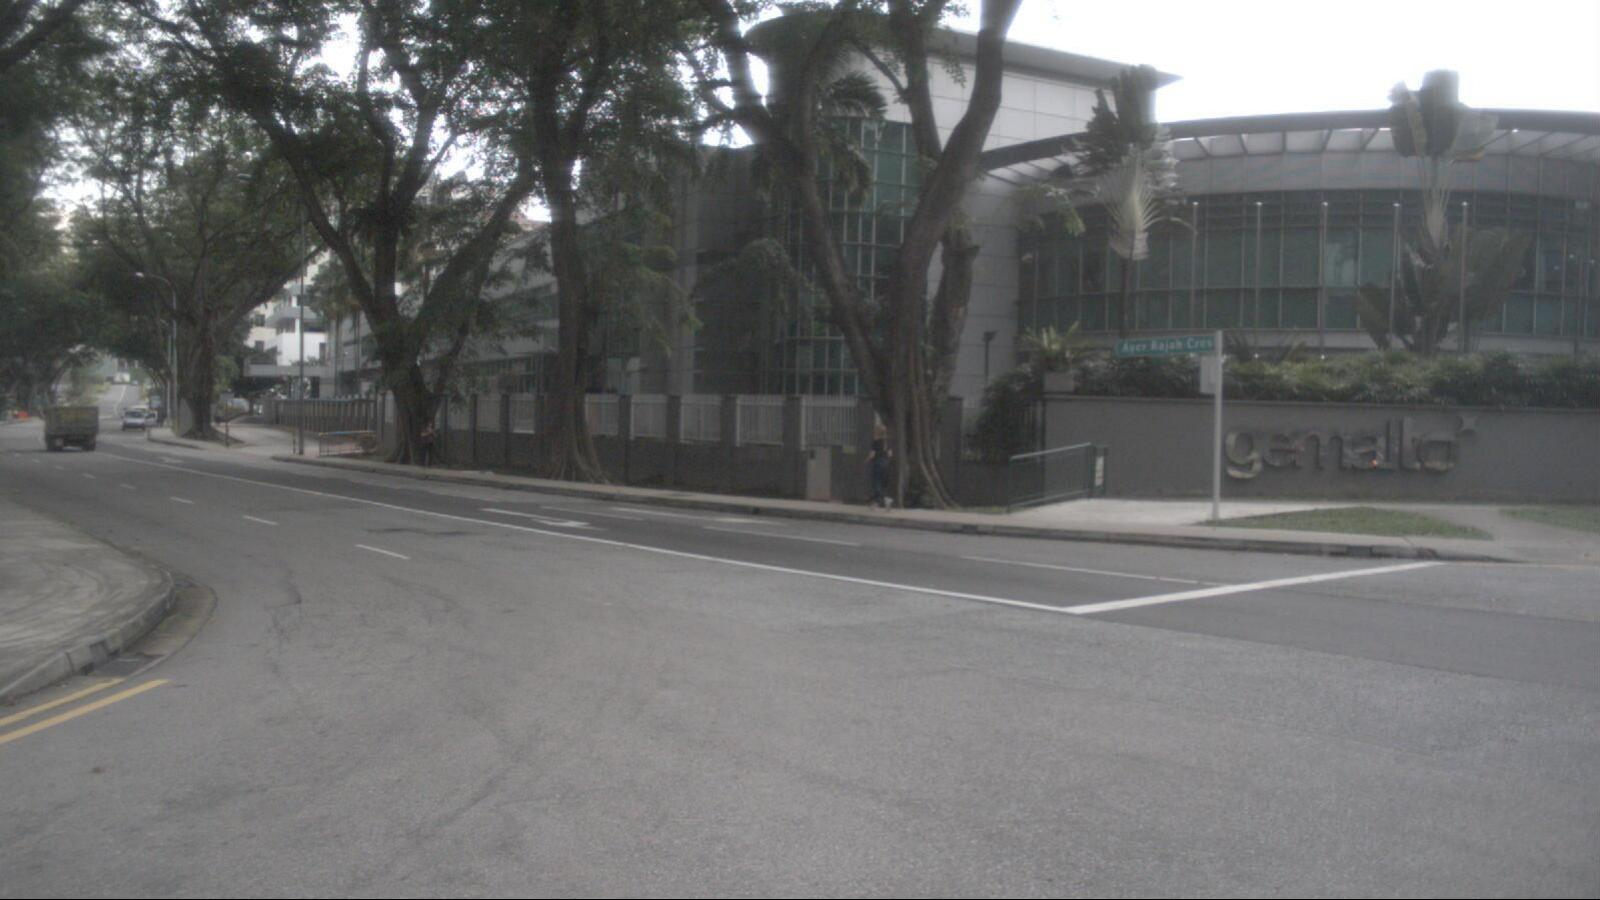human.pedestrian.adult-pedestrian.moving: (862, 424, 894, 515), (418, 419, 438, 469)
